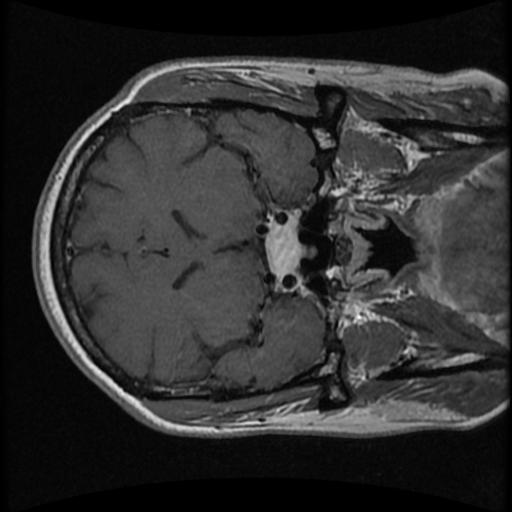pituitary tumour: (265, 220, 312, 275)
